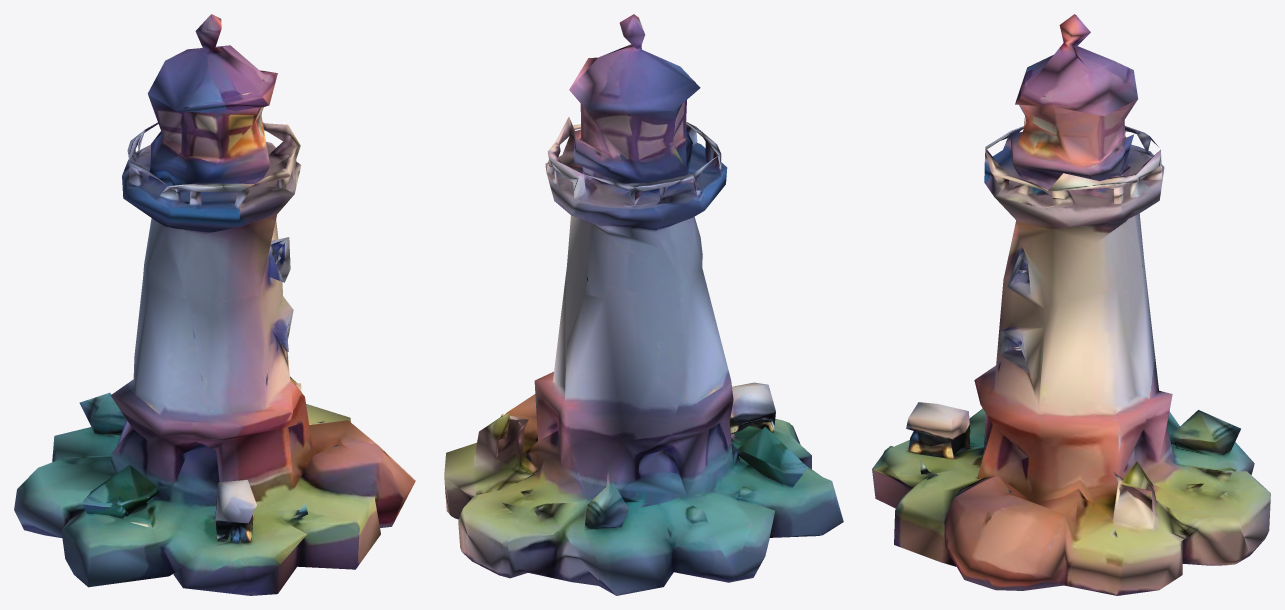
File: lighthouse.glb
The picture shows the model from 3 angles, left to right: view 1: azimuth 30°, elevation 25°; view 2: azimuth 150°, elevation 25°; view 3: azimuth 270°, elevation 25°; orthographic projection.
Visible parts, largest first — view 1: tripo_node_03c7490d-30fd-4e41-9460-56dcaa00f736; view 2: tripo_node_03c7490d-30fd-4e41-9460-56dcaa00f736; view 3: tripo_node_03c7490d-30fd-4e41-9460-56dcaa00f736.
Boxes of the visible parts, <box> form: tripo_node_03c7490d-30fd-4e41-9460-56dcaa00f736: <box>14,14,415,595</box>; tripo_node_03c7490d-30fd-4e41-9460-56dcaa00f736: <box>444,14,843,595</box>; tripo_node_03c7490d-30fd-4e41-9460-56dcaa00f736: <box>872,14,1270,595</box>.
Bounding box in the file's own units: 0.6788 × 0.9796 × 0.701.
1 material, 1 textured.
